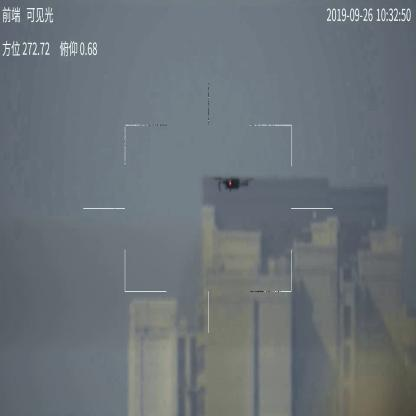uav: (210, 174, 255, 192)
